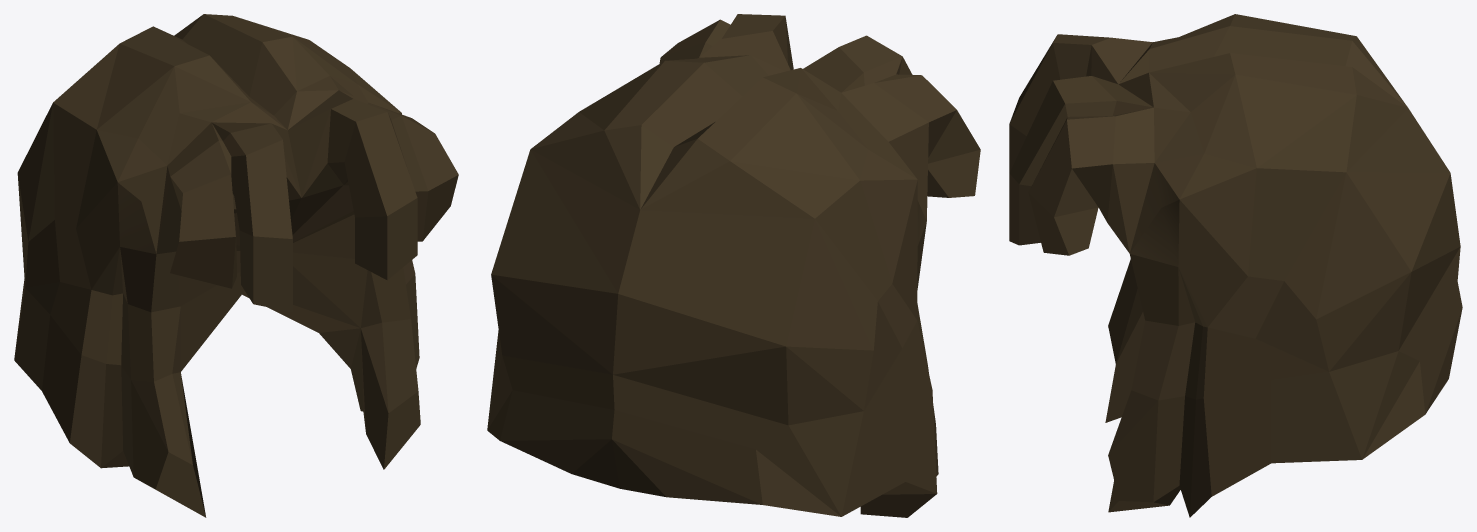
Rendered from Chr_Hair_28_Static.fbx.
3 views of the same model, side by side, from view 1: azimuth 30°, elevation 25°; view 2: azimuth 150°, elevation 25°; view 3: azimuth 270°, elevation 25° (orthographic). The views are drawn at different scales.
Parts seen in each view (by area): view 1: Chr_Hair_28_Static; view 2: Chr_Hair_28_Static; view 3: Chr_Hair_28_Static.
Boxes of the visible parts, x1,y1,x2,y2 form: Chr_Hair_28_Static: (14,14,458,517); Chr_Hair_28_Static: (487,14,980,517); Chr_Hair_28_Static: (1009,14,1462,517).
Bounding box in the file's own units: 0.3005 × 0.3322 × 0.3177.
